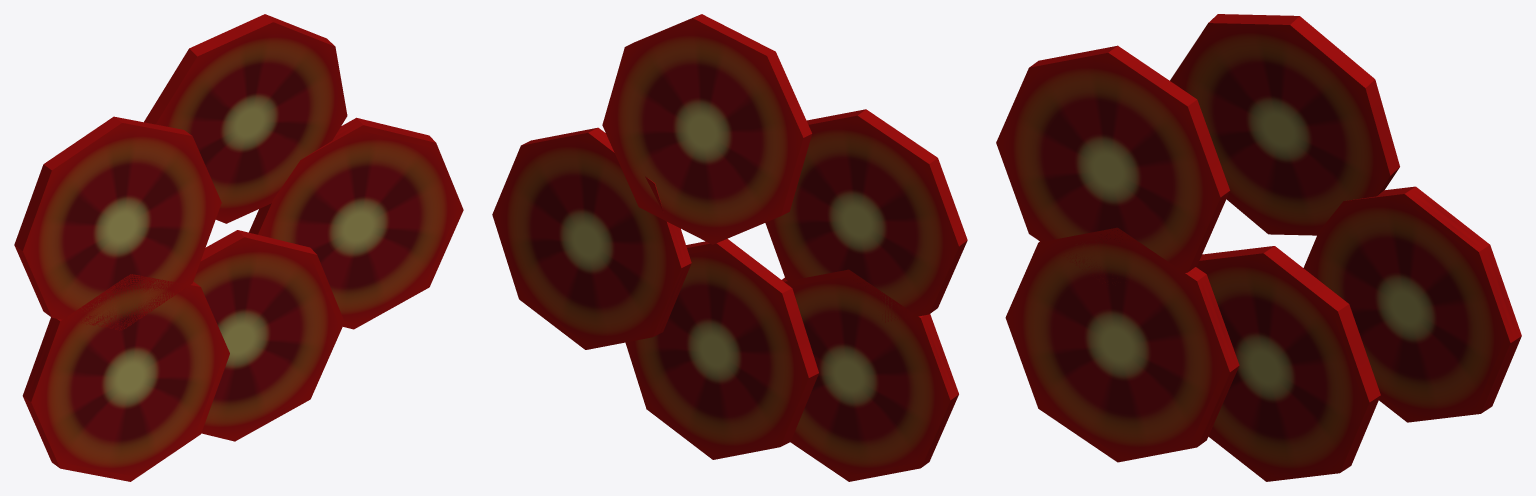
The model's file is CutTomato.fbx.
3 renders of one model, left to right at view 1: azimuth 30°, elevation 25°; view 2: azimuth 150°, elevation 25°; view 3: azimuth 330°, elevation 25°, orthographic. The views are drawn at different scales.
Parts seen in each view (by area): view 1: TomatoCut.001; view 2: TomatoCut.001; view 3: TomatoCut.001.
Part boxes in pixels (left/top/right/bottom): TomatoCut.001: left=14, top=14, right=463, bottom=481; TomatoCut.001: left=492, top=14, right=967, bottom=481; TomatoCut.001: left=996, top=14, right=1521, bottom=481.
Bounding box in the file's own units: 0.4893 × 0.4384 × 0.054.
1 material, 1 textured.
